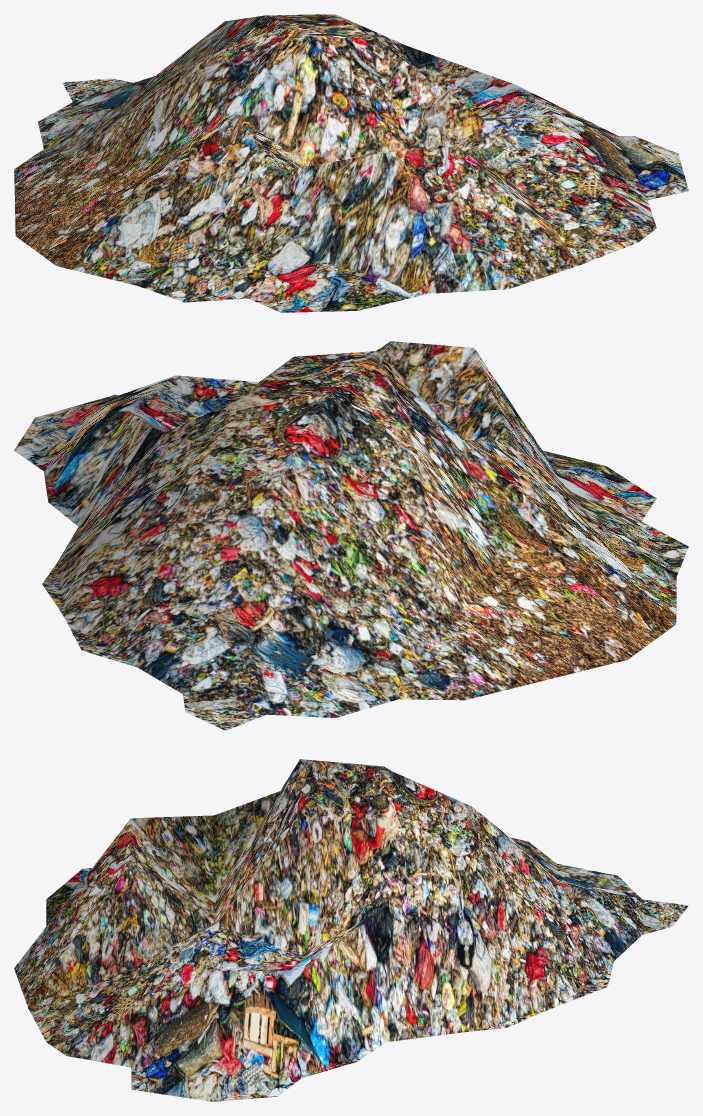
Rendered from garbage.fbx.
3 views of the same model, one above another, from view 1: azimuth 30°, elevation 25°; view 2: azimuth 150°, elevation 25°; view 3: azimuth 270°, elevation 25° (orthographic). The views are drawn at different scales.
Visible parts, largest first — view 1: pPlane1; view 2: pPlane1; view 3: pPlane1.
Part boxes in pixels (left/top/right/bottom): pPlane1: left=14, top=14, right=688, bottom=312; pPlane1: left=14, top=341, right=688, bottom=730; pPlane1: left=14, top=759, right=688, bottom=1101.
Bounding box in the file's own units: 8.83 × 2.46 × 8.52.
Materials: 1 (1 with a texture image).
